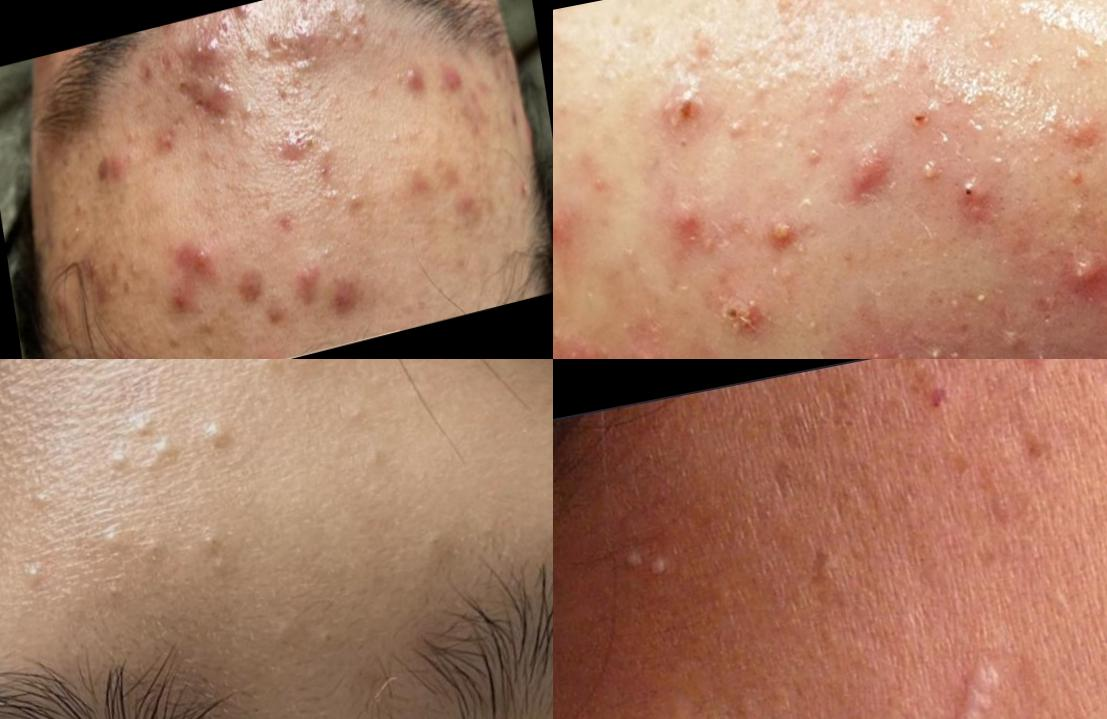blackhead: (94, 582, 148, 621), (409, 530, 453, 575), (317, 626, 355, 672), (263, 23, 288, 65)
flat_wart: (597, 524, 696, 602), (933, 642, 1027, 719), (1003, 360, 1076, 379)
papular: (810, 276, 933, 360), (644, 184, 731, 275), (554, 168, 598, 297), (1043, 113, 1107, 176), (423, 46, 467, 114), (175, 235, 229, 287), (289, 255, 317, 309), (398, 59, 423, 118)
purulent: (743, 192, 821, 279), (1042, 232, 1107, 324), (938, 169, 1010, 244), (899, 142, 961, 210)
sebo-crystan-conglo: (818, 124, 906, 238), (704, 272, 788, 360), (176, 21, 241, 78), (189, 77, 247, 134), (831, 345, 932, 360)
whitehead: (1041, 30, 1105, 91), (133, 420, 191, 485), (704, 102, 771, 155), (806, 72, 866, 126), (14, 470, 74, 524), (192, 520, 239, 585), (790, 122, 844, 178), (954, 278, 1007, 331), (588, 42, 644, 92), (1054, 36, 1105, 87), (1, 556, 57, 599), (1002, 43, 1055, 88), (554, 25, 586, 98), (116, 403, 171, 445), (196, 422, 245, 467), (91, 523, 139, 566), (363, 436, 398, 487), (336, 396, 382, 433), (327, 25, 368, 66), (198, 310, 230, 360), (107, 448, 137, 486), (921, 334, 957, 360), (241, 360, 274, 386), (101, 284, 124, 314), (319, 1, 343, 26), (128, 261, 151, 287), (353, 5, 373, 33), (346, 189, 369, 212), (383, 129, 400, 159)
